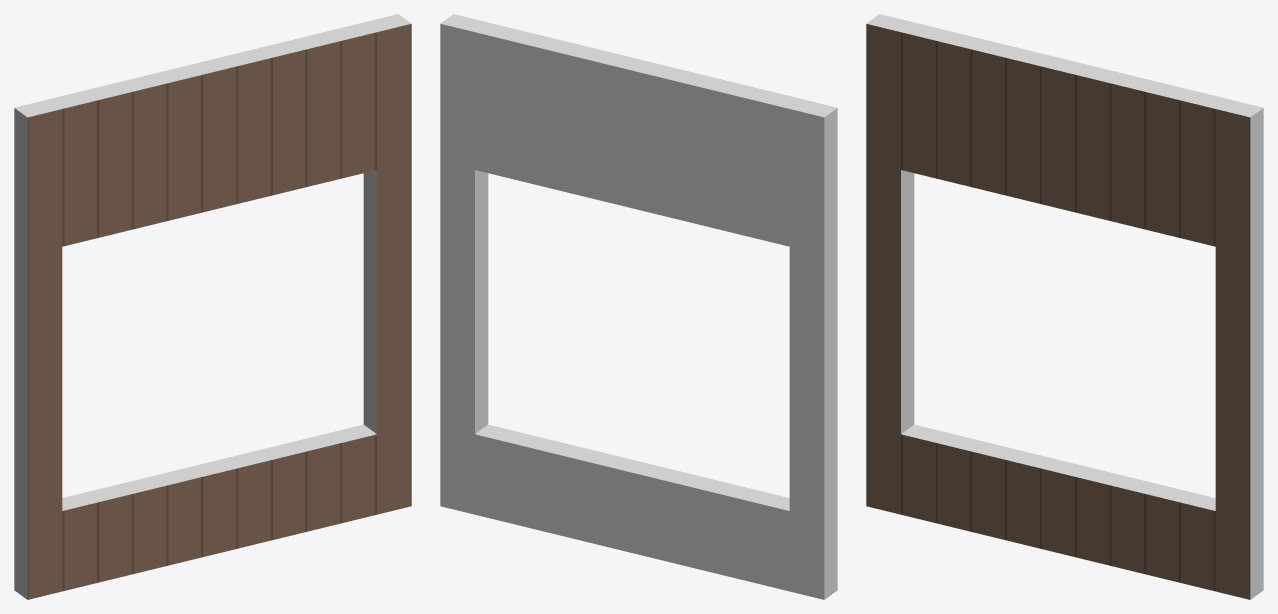
Rendered from Wall1_C9_05.fbx.
3 renders of one model, left to right at view 1: azimuth 30°, elevation 25°; view 2: azimuth 150°, elevation 25°; view 3: azimuth 330°, elevation 25°, orthographic.
Visible parts, largest first — view 1: Wall1_C9_05; view 2: Wall1_C9_05; view 3: Wall1_C9_05.
Part boxes in pixels (x1,y1,x2,y2): Wall1_C9_05: [14, 14, 411, 599]; Wall1_C9_05: [440, 14, 837, 599]; Wall1_C9_05: [866, 14, 1263, 599].
Bounding box in the file's own units: 250 × 300 × 15.
